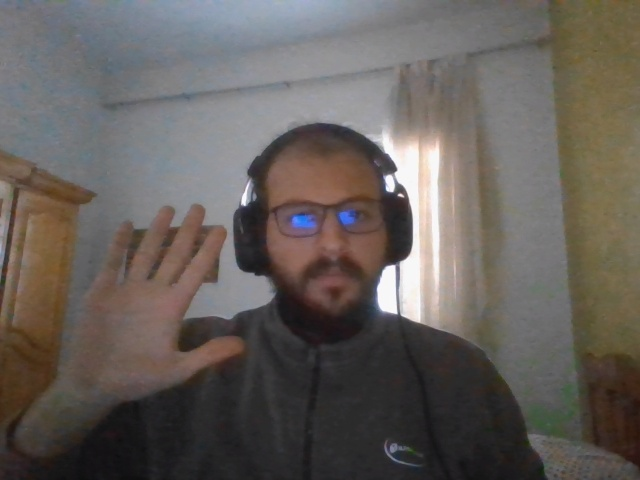Hello: (70, 203, 244, 395)
